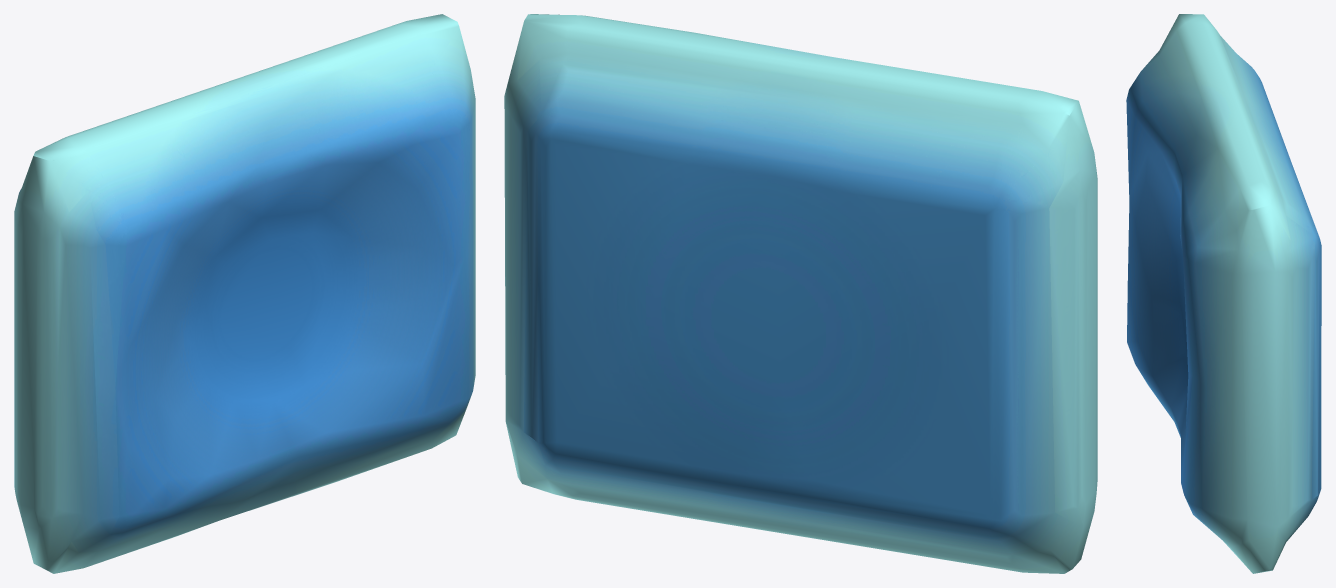
File: Couch Pillow1.fbx
3 renders of one model, left to right at view 1: azimuth 30°, elevation 25°; view 2: azimuth 150°, elevation 25°; view 3: azimuth 270°, elevation 25°, orthographic. The views are drawn at different scales.
Visible parts, largest first — view 1: couchPillow; view 2: couchPillow; view 3: couchPillow.
Boxes of the visible parts, x1=… form: couchPillow: x1=14, y1=14, x2=475, y2=573; couchPillow: x1=504, y1=14, x2=1097, y2=573; couchPillow: x1=1126, y1=14, x2=1321, y2=573.
Bounding box in the file's own units: 2.12 × 1.79 × 0.8426.
1 material, 1 textured.
